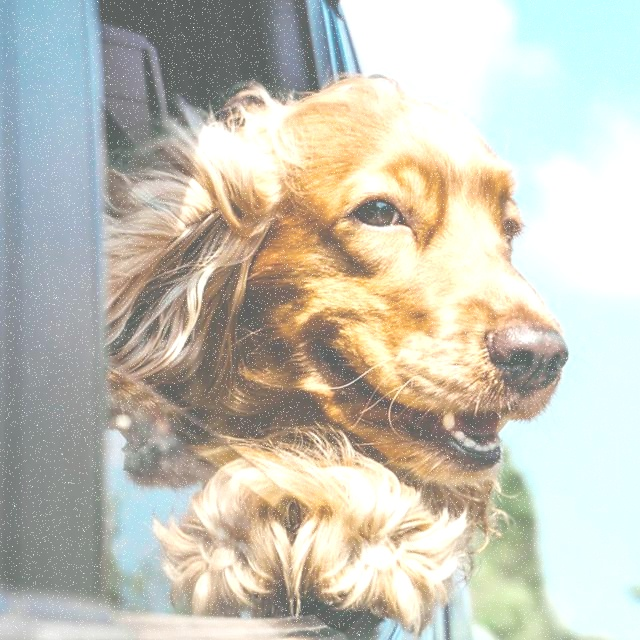dog: (148, 42, 567, 614)
